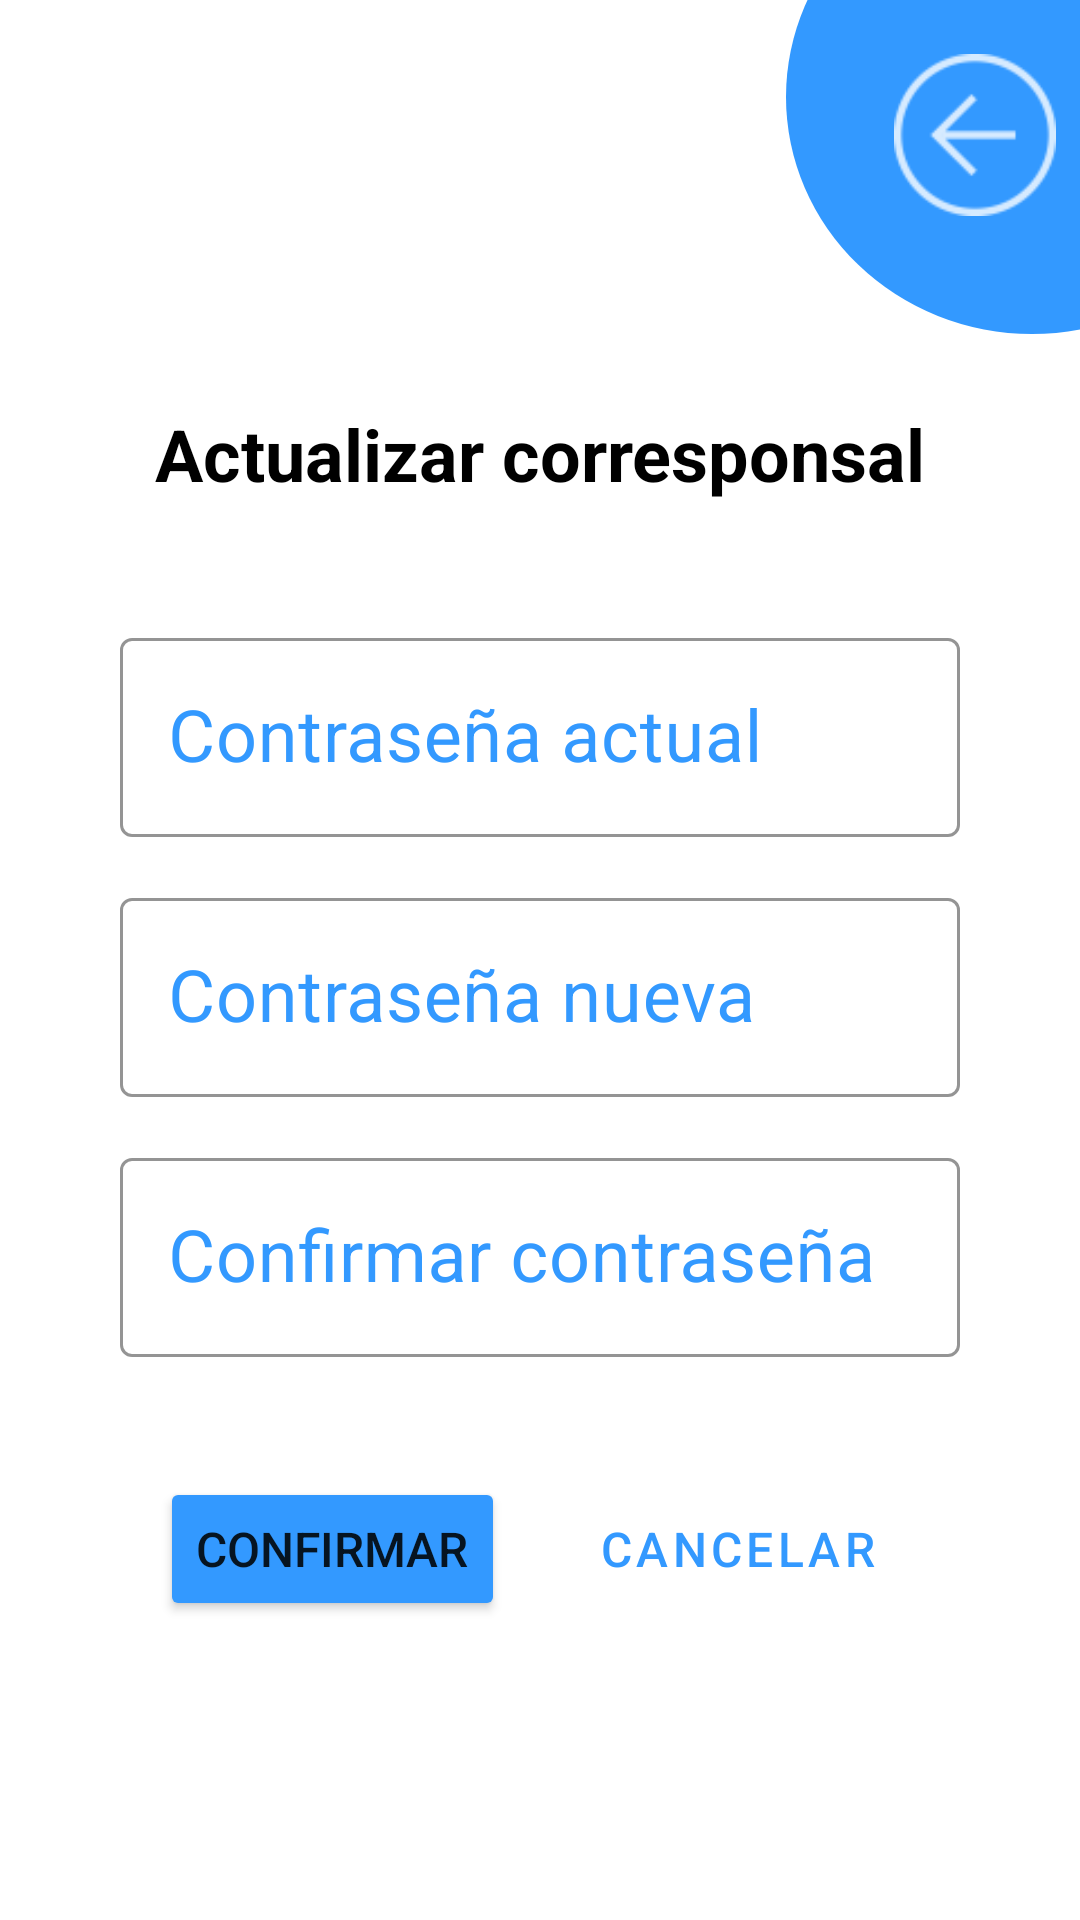

Screen size 1080px x 1920px. Icon name, then its box in pixels as (left=x1, top=y1, right=x2, bottom=y2):
arrowback: (left=894, top=54, right=1056, bottom=216)
